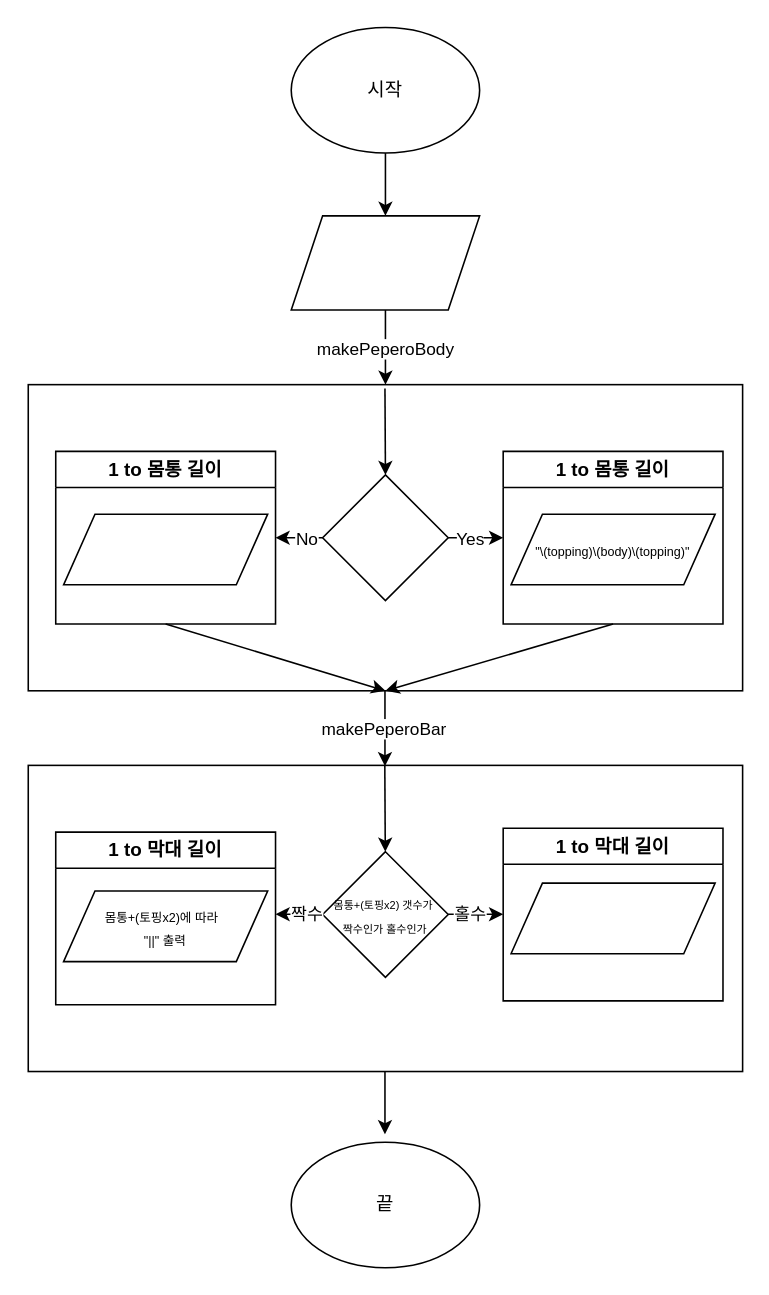
The diagram is 769 pixels wide and 1295 high, and some of its shapes have lost their labels. The centre of each missing label's shape, as x and y in pixels:
"\(body)": point (165, 549)
길이, 몸통, 토핑, 막대길이 입력 받기: point (385, 262)
몸통+(토핑x2)에 따라 "| |" 출력: point (612, 918)
토핑이 존재하는가: point (384, 537)
